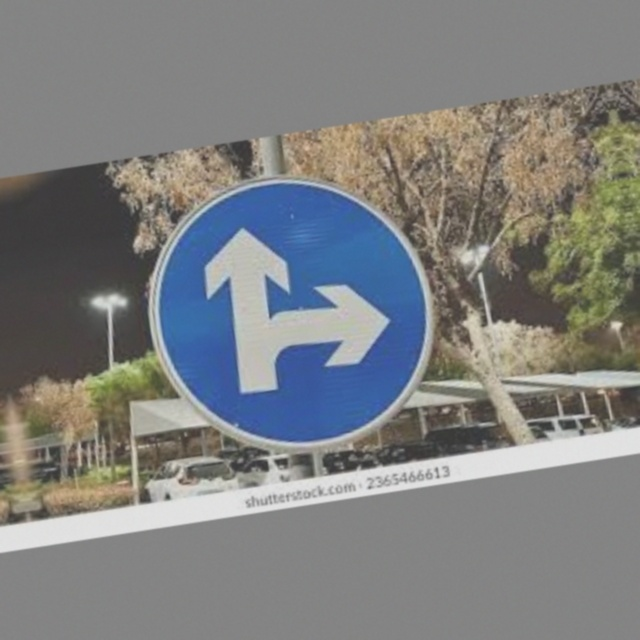Compulsory_Ahead_or_Turn_Right: (133, 156, 452, 467)
